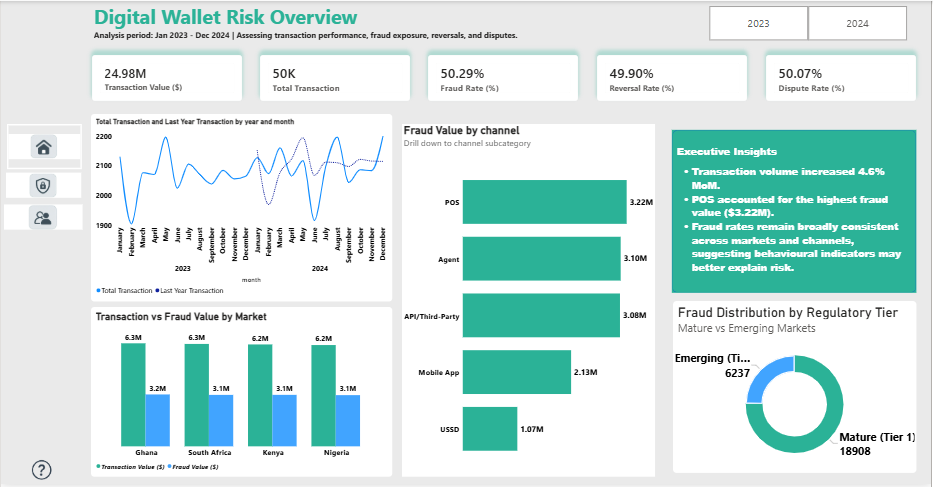

Layout of this report page (visuals, bound fields, positions):
{"tool":"powerbi","page":{"name":"Overview","canvas":[2510,1304],"ordinal":1},"visuals":[{"type":"image","box":[14.8,332.6,201.9,121.7],"z":0},{"type":"shape","box":[1811.2,347.4,659.2,439.5],"z":1000},{"type":"textbox","box":[1820.2,347.4,647.3,439.5],"z":2000},{"type":"image","box":[14.8,429.2,202.6,135.8],"z":3000},{"type":"textbox","box":[246.3,0,1155.4,143.7],"z":4000},{"type":"image","box":[8.9,511.3,211.5,145.3],"z":5000},{"type":"cardVisual","fields":{"Data":["Measure Table.Dispute Rate (%)"]},"box":[2064.3,144.9,405.2,124.2],"z":6000},{"type":"image","box":[65.5,1228.4,89.4,75.8],"z":7000},{"type":"clusteredColumnChart","title":"Transaction vs Fraud Value by Market","fields":{"Y":["Measure Table.Transaction Value ($)","Measure Table.Fraud Value ($)"],"Category":["dim_market.country"]},"box":[242.5,825.1,813.3,458.4],"z":8000},{"type":"clusteredBarChart","title":"Fraud Value by channel","fields":{"Category":["dim_channel.channel_type"],"Y":["Measure Table.Fraud Value ($)"]},"box":[1082.4,331.2,683.2,952.3],"z":9000},{"type":"cardVisual","fields":{"Data":["Measure Table.Reversal Rate (%)"]},"box":[1608.8,144.9,405.2,124.2],"z":10000},{"type":"cardVisual","fields":{"Data":["Measure Table.Fraud Rate (%)"]},"box":[1153.4,144.9,405.2,124.2],"z":11000},{"type":"cardVisual","fields":{"Data":["Measure Table.Total Transaction"]},"box":[698,144.9,405.2,124.2],"z":12000},{"type":"cardVisual","fields":{"Data":["Measure Table.Transaction Value ($)"]},"box":[245.5,144.9,405.2,124.2],"z":13000},{"type":"lineChart","fields":{"Y":["Measure Table.Total Transaction"],"Category":["dim_date_updated.year","dim_date_updated.month"],"Y2":["Measure Table.Last Year Transaction"]},"box":[242.5,304.6,813.3,505.7],"z":14000},{"type":"donutChart","title":"Fraud Distribution by Regulatory Tier","fields":{"Y":["Measure Table.Fradulent Transactions"],"Category":["dim_market.regulatory_tier"]},"box":[1812.9,810.3,656.5,464.3],"z":15000},{"type":"slicer","fields":{"Values":["dim_date_updated.year"]},"box":[1885.5,5.9,582,106.9],"z":16000}]}

Visuals, with their boxes on the page's 2510x1304 design canvas (x1, y1, x2, y2). These are canvas units, not pixel positions in the 933x487 screenshot, which may show the page scaled, cropped or inside an application window:
image: (15, 333, 217, 454)
shape: (1811, 347, 2470, 787)
textbox: (1820, 347, 2468, 787)
image: (15, 429, 217, 565)
textbox: (246, 0, 1402, 144)
image: (9, 511, 220, 657)
cardVisual - Measure Table.Dispute Rate (%): (2064, 145, 2470, 269)
image: (66, 1228, 155, 1304)
"Transaction vs Fraud Value by Market" clusteredColumnChart: (242, 825, 1056, 1284)
"Fraud Value by channel" clusteredBarChart: (1082, 331, 1766, 1284)
cardVisual - Measure Table.Reversal Rate (%): (1609, 145, 2014, 269)
cardVisual - Measure Table.Fraud Rate (%): (1153, 145, 1559, 269)
cardVisual - Measure Table.Total Transaction: (698, 145, 1103, 269)
cardVisual - Measure Table.Transaction Value ($): (246, 145, 651, 269)
lineChart - Measure Table.Total Transaction x dim_date_updated.year: (242, 305, 1056, 810)
"Fraud Distribution by Regulatory Tier" donutChart: (1813, 810, 2469, 1275)
slicer - dim_date_updated.year: (1886, 6, 2468, 113)
